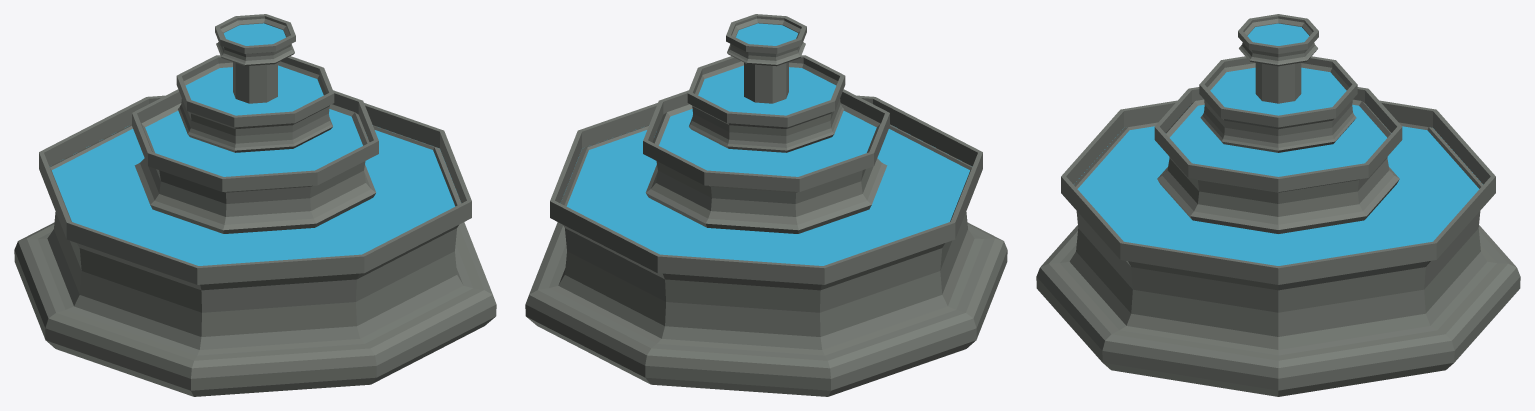
Rendered from WaterFountain.fbx.
The picture shows the model from 3 angles, left to right: view 1: azimuth 30°, elevation 25°; view 2: azimuth 150°, elevation 25°; view 3: azimuth 270°, elevation 25°; orthographic projection.
Visible parts, largest first — view 1: Tubs, Pillars; view 2: Tubs, Pillars; view 3: Tubs, Pillars.
Part boxes in pixels (<box>): Tubs: <box>14,14,496,396</box>; Pillars: <box>233,62,277,103</box>; Tubs: <box>525,14,1007,396</box>; Pillars: <box>744,62,788,103</box>; Tubs: <box>1036,14,1520,396</box>; Pillars: <box>1255,62,1301,103</box>.
Size of the model in its own units: 102 by 64.83 by 102.
